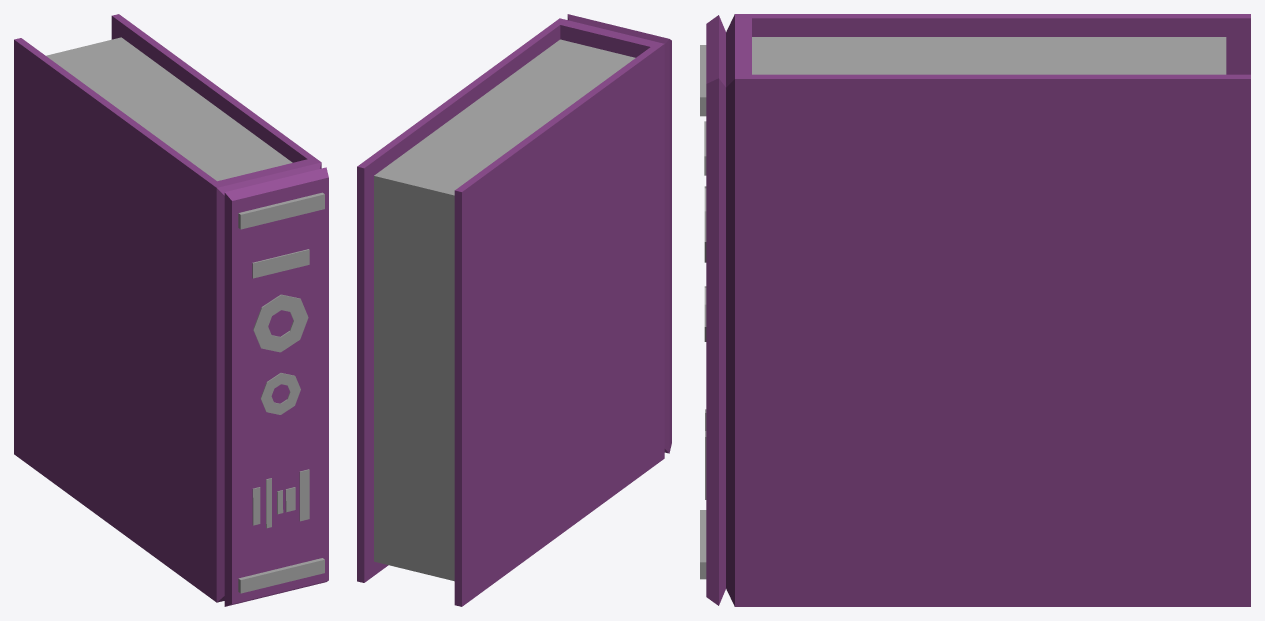
File: Book_Small.fbx
The picture shows the model from 3 angles, left to right: view 1: azimuth 30°, elevation 25°; view 2: azimuth 150°, elevation 25°; view 3: azimuth 270°, elevation 25°; orthographic projection. The views are drawn at different scales.
Parts seen in each view (by area): view 1: Book_v3; view 2: Book_v3; view 3: Book_v3.
Boxes of the visible parts, box(x1,y1,x2,y2) form: Book_v3: box(14, 14, 328, 606); Book_v3: box(357, 14, 671, 606); Book_v3: box(700, 14, 1250, 606).
Size of the model in its own units: 4.03 by 15.24 by 14.41.
